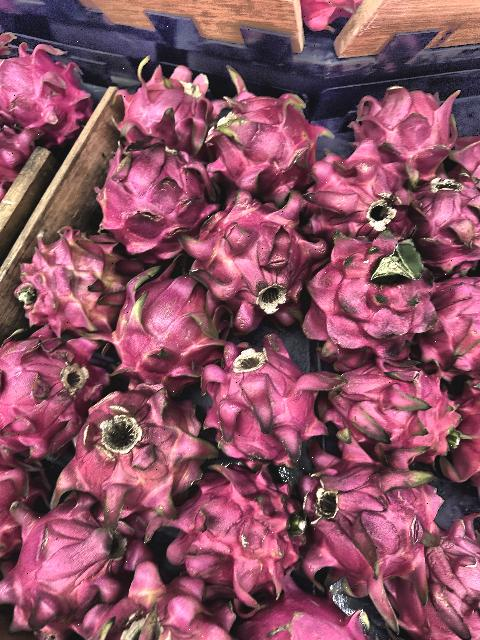buah-naga-belum-matang: (71, 388, 213, 508), (16, 226, 124, 332)
buah-naga-matang: (298, 435, 432, 589), (0, 493, 136, 632), (198, 327, 328, 461), (166, 459, 292, 593), (306, 232, 436, 354), (97, 262, 219, 386), (197, 188, 315, 316), (206, 58, 320, 190), (333, 350, 458, 466), (99, 140, 209, 258), (79, 564, 239, 640), (2, 326, 98, 450), (358, 81, 462, 180), (310, 144, 412, 242), (396, 522, 480, 640), (0, 48, 96, 140), (114, 59, 200, 150), (412, 262, 480, 376), (410, 169, 480, 279), (236, 582, 360, 640)
